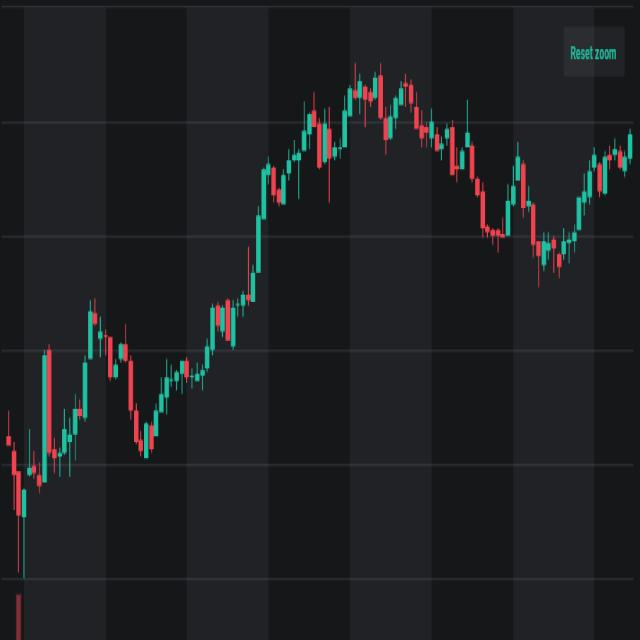Double-Bottom: (459, 94, 599, 291)
Resistance-breakout: (68, 116, 305, 470)
